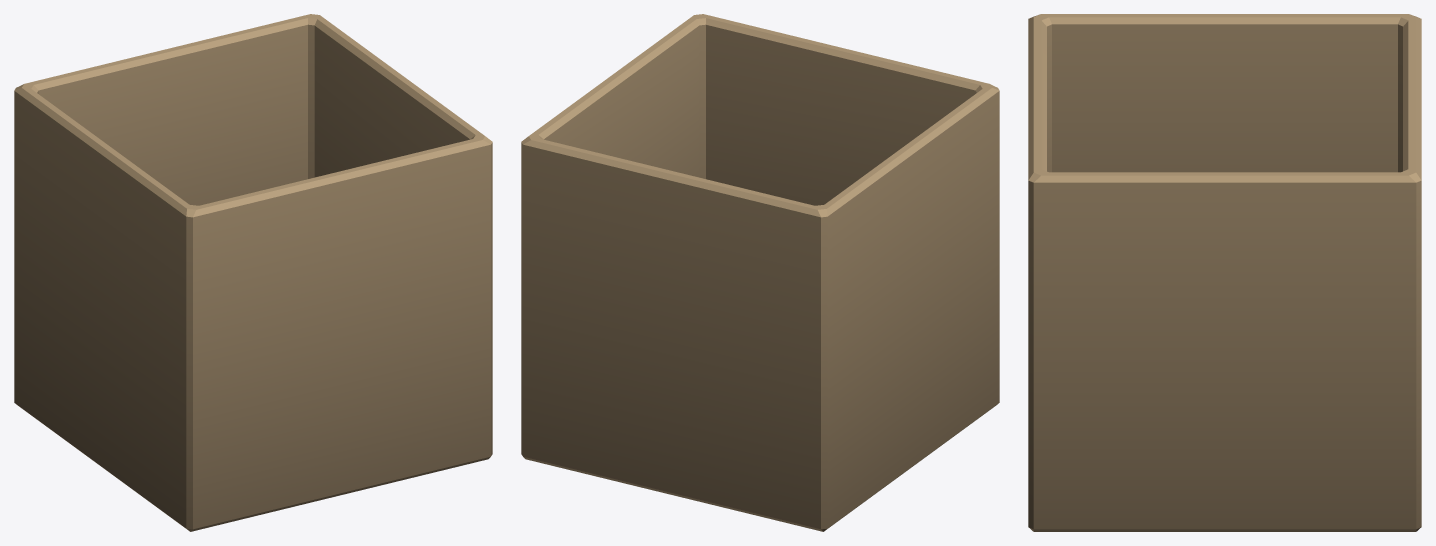
File: OpenBox.fbx
3 renders of one model, left to right at view 1: azimuth 30°, elevation 25°; view 2: azimuth 150°, elevation 25°; view 3: azimuth 270°, elevation 25°, orthographic. The views are drawn at different scales.
Parts seen in each view (by area): view 1: Cube; view 2: Cube; view 3: Cube.
Boxes of the visible parts, x1=… form: Cube: x1=14, y1=14, x2=492, y2=531; Cube: x1=521, y1=14, x2=999, y2=531; Cube: x1=1028, y1=14, x2=1421, y2=531.
Size of the model in its own units: 200 by 200 by 200.
